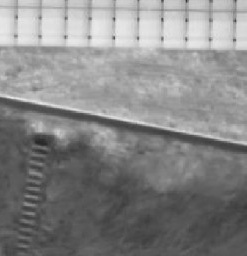solar: (38, 5, 68, 46), (63, 4, 93, 45), (86, 5, 116, 46), (110, 5, 140, 46), (134, 7, 164, 48), (160, 7, 190, 48), (184, 8, 214, 49), (207, 8, 237, 49), (13, 5, 42, 47)
